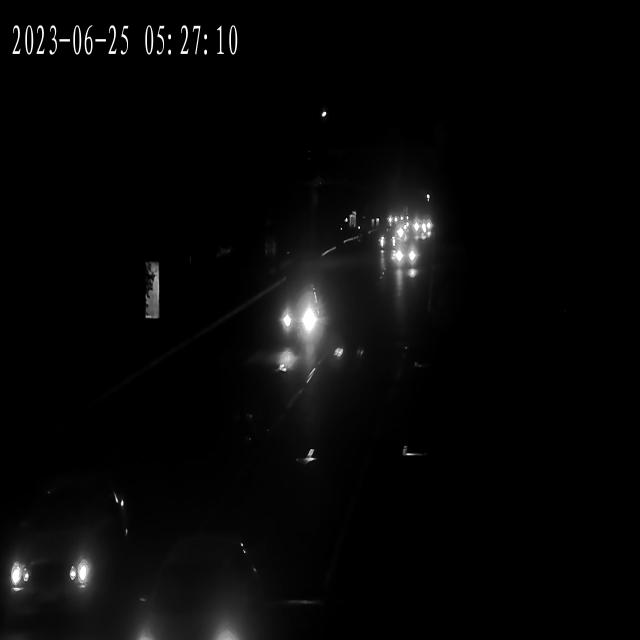Car: (2, 473, 132, 615), (135, 532, 264, 640), (282, 282, 320, 350), (396, 240, 420, 276), (377, 230, 400, 256), (386, 211, 406, 233), (410, 217, 432, 236)
